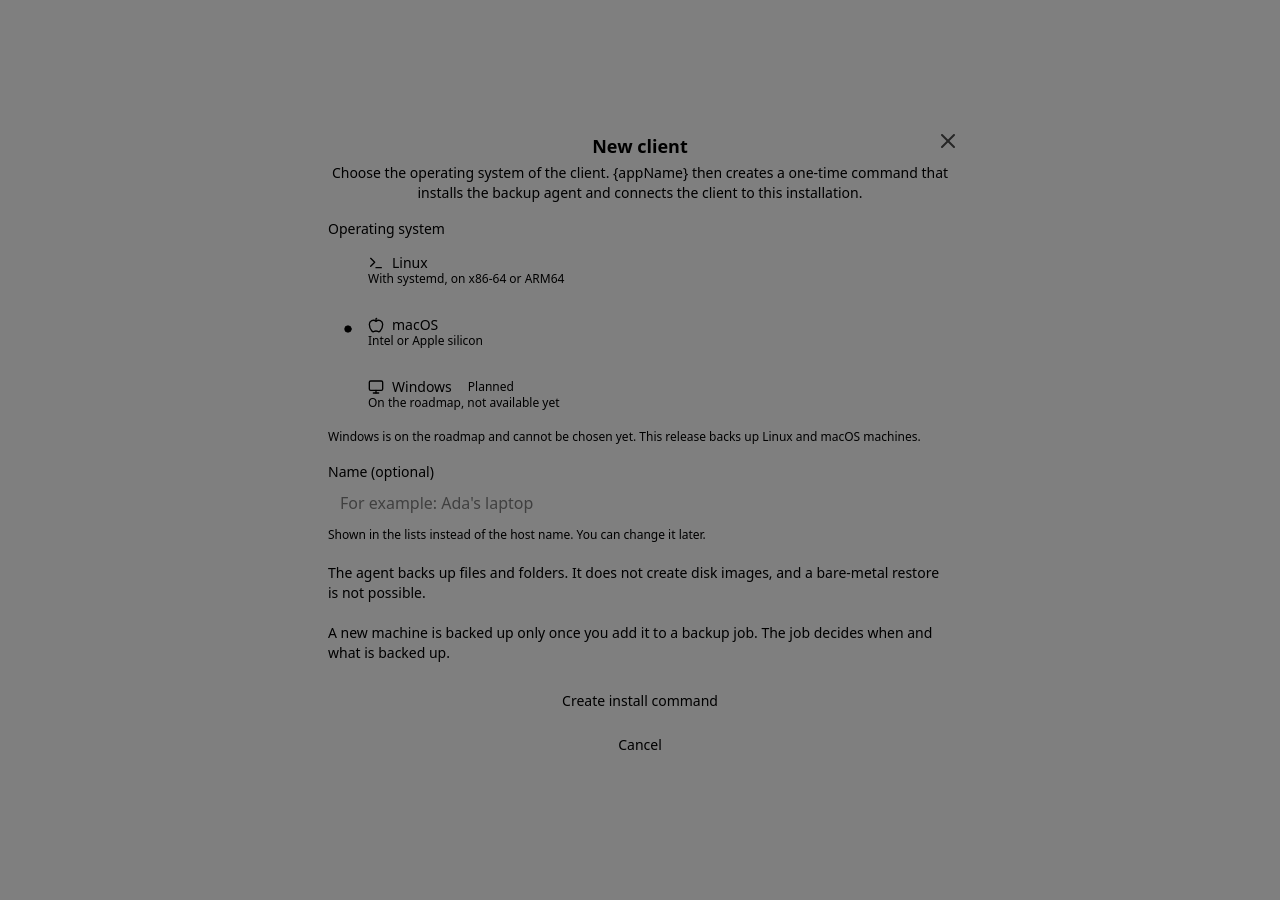
Scenario: EnrollDialog › links a connected client to its page in the inventory
The image size is (1280, 900).
Click the button "Create install command": click(640, 701) [328,683,952,719]
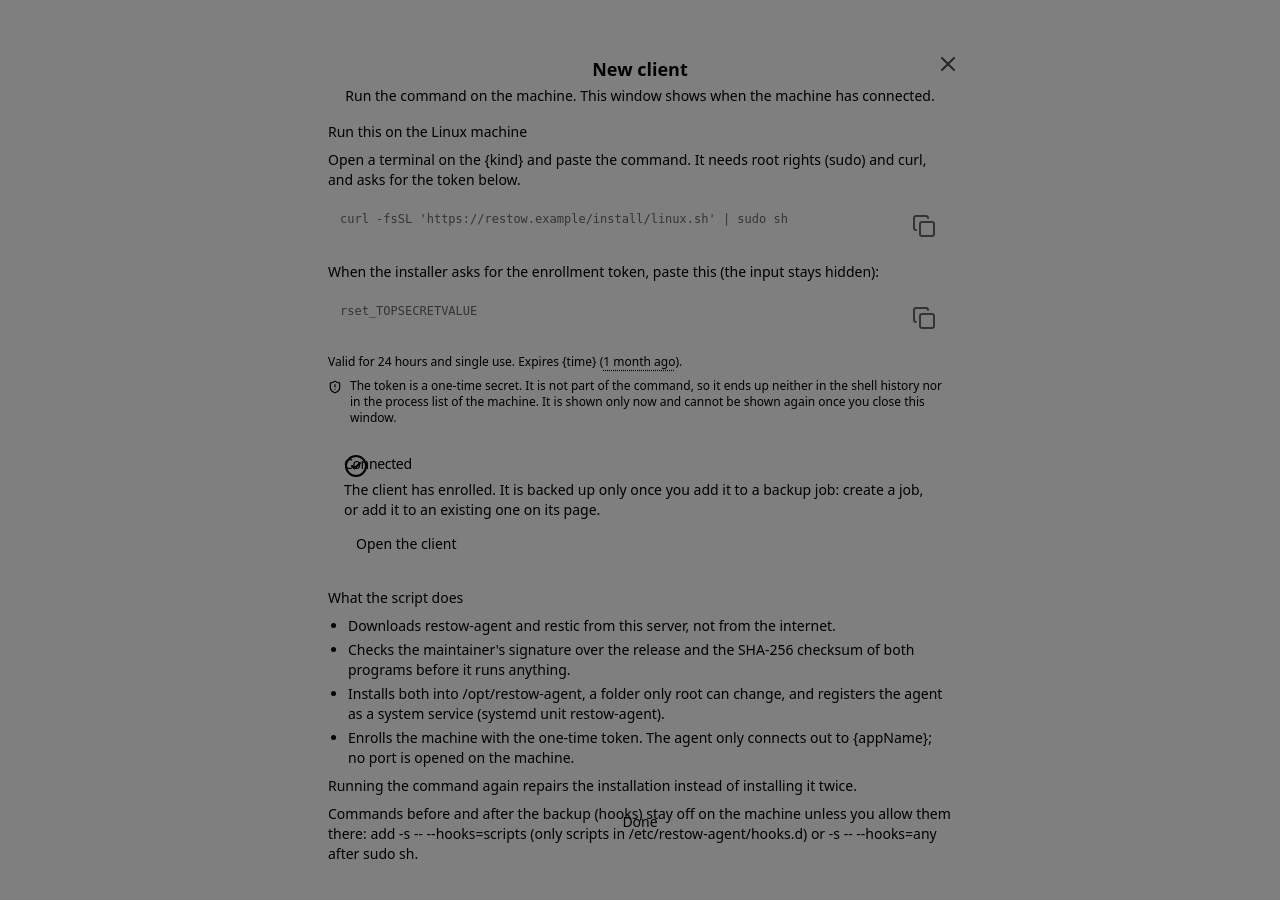
expect the link to "/inventory/33333333-3333-4333-8333-333333333333" is shown: met, box [356,534,456,553]
